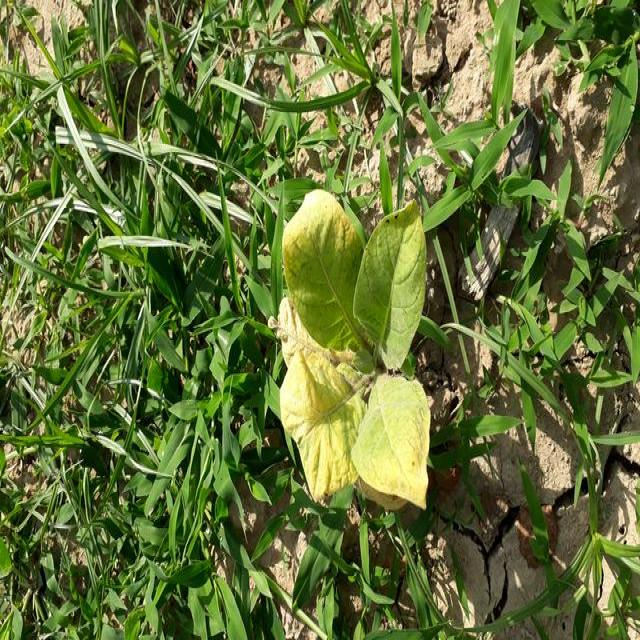crop: (278, 200, 434, 514)
